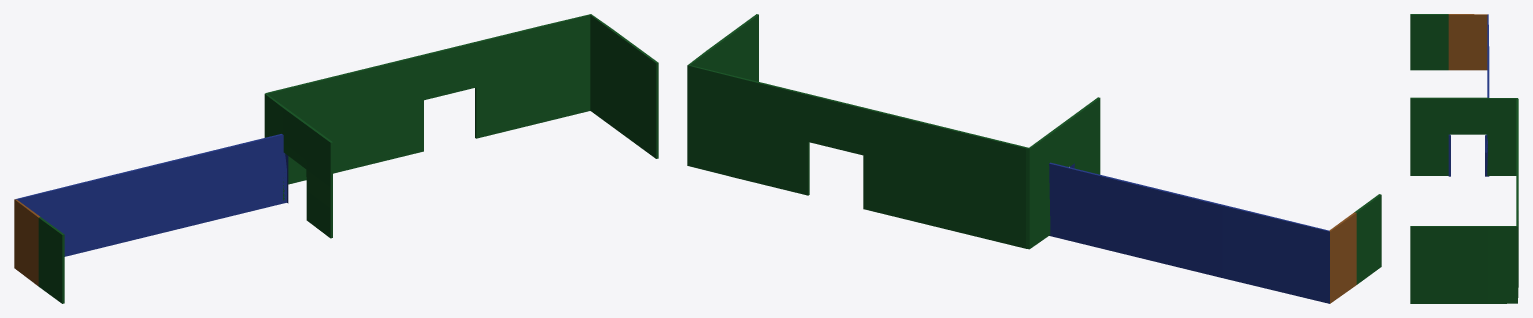
File: taxidermyWalls.fbx
The picture shows the model from 3 angles, left to right: view 1: azimuth 30°, elevation 25°; view 2: azimuth 150°, elevation 25°; view 3: azimuth 270°, elevation 25°; orthographic projection. The views are drawn at different scales.
Parts seen in each view (by area): view 1: Cube.003; view 2: Cube.003; view 3: Cube.003.
Part boxes in pixels (<box>): Cube.003: <box>14,14,658,303</box>; Cube.003: <box>687,14,1381,303</box>; Cube.003: <box>1410,14,1518,303</box>.
Size of the model in its own units: 8160 by 1253 by 1592.
